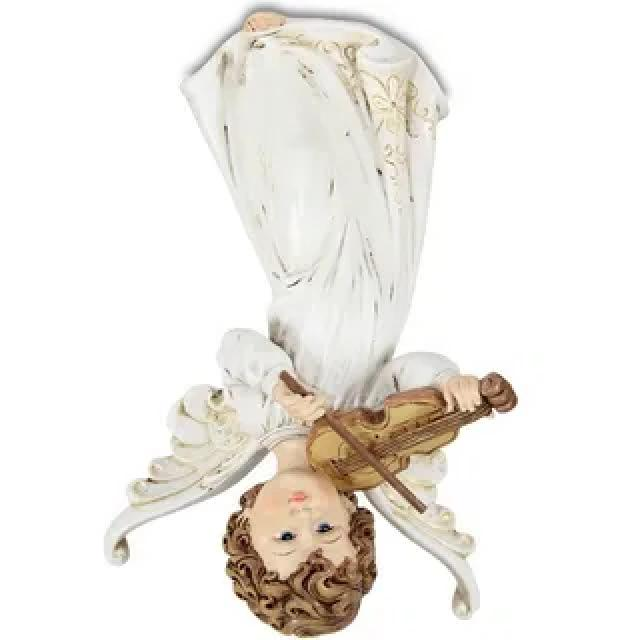angel: (66, 0, 556, 640)
